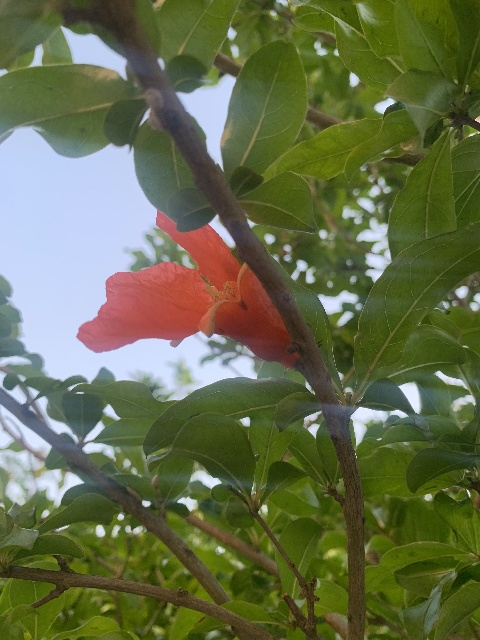flower: (76, 209, 298, 367)
